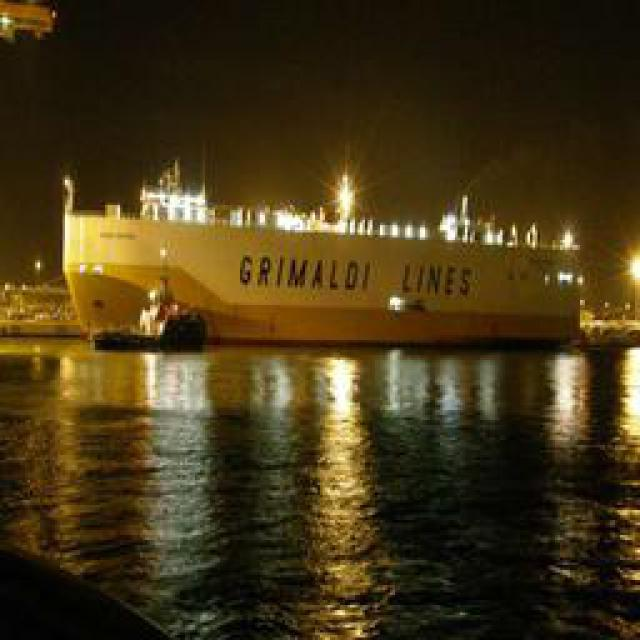Ship: (46, 187, 576, 347)
